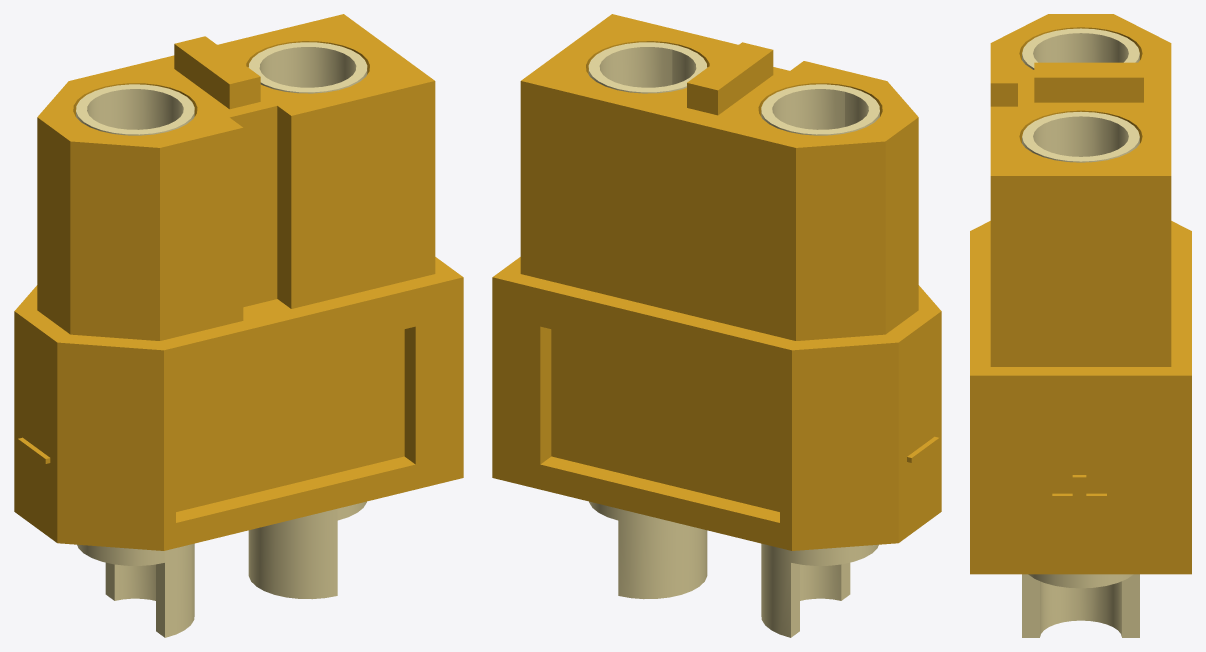
File: kc-amass_xt60-f_1x02_p7.2mm_vertical.glb
3 views of the same model, side by side, from view 1: azimuth 30°, elevation 25°; view 2: azimuth 150°, elevation 25°; view 3: azimuth 270°, elevation 25° (orthographic).
Visible parts, largest first — view 1: 0.8333333333333334_0.4166666666666667_0_0, 0.9166666666666666_0.75_0.4166666666666667_0.9; view 2: 0.8333333333333334_0.4166666666666667_0_0, 0.9166666666666666_0.75_0.4166666666666667_0.9; view 3: 0.8333333333333334_0.4166666666666667_0_0, 0.9166666666666666_0.75_0.4166666666666667_0.9.
Boxes of the visible parts, x1=… form: 0.8333333333333334_0.4166666666666667_0_0: x1=14, y1=14, x2=463, y2=550; 0.9166666666666666_0.75_0.4166666666666667_0.9: x1=76, y1=42, x2=367, y2=637; 0.8333333333333334_0.4166666666666667_0_0: x1=492, y1=14, x2=941, y2=550; 0.9166666666666666_0.75_0.4166666666666667_0.9: x1=588, y1=42, x2=879, y2=637; 0.8333333333333334_0.4166666666666667_0_0: x1=970, y1=14, x2=1191, y2=574; 0.9166666666666666_0.75_0.4166666666666667_0.9: x1=1022, y1=28, x2=1139, y2=637.
Size of the model in its own units: 1.59 by 2.12 by 0.81.
